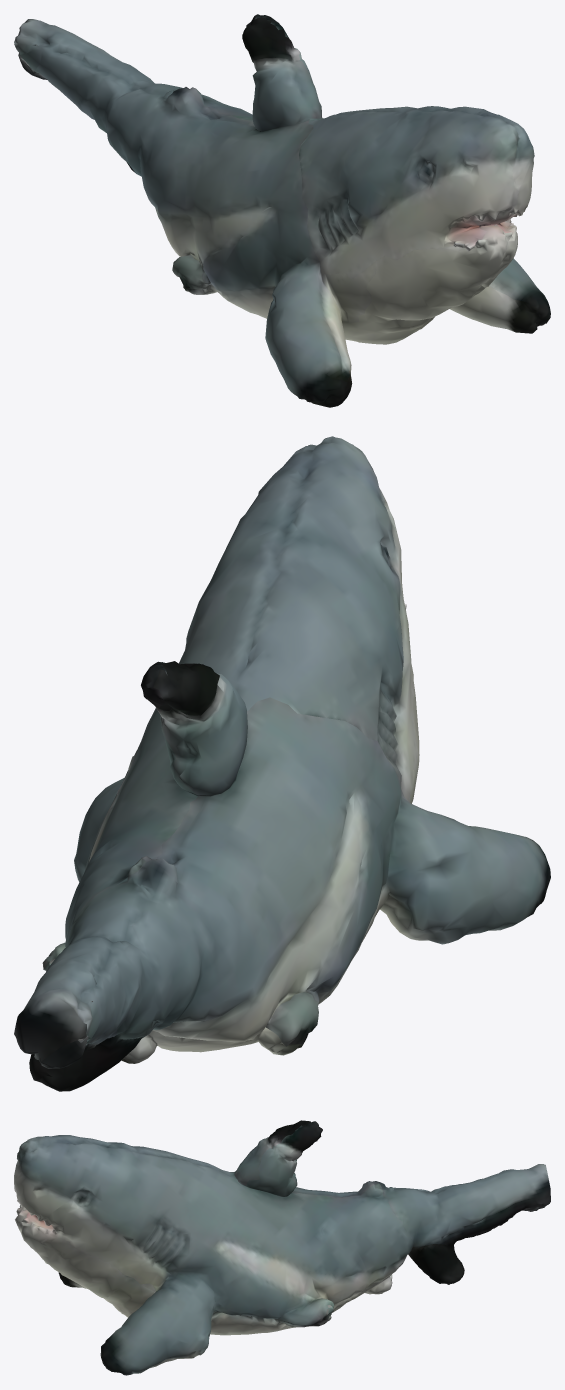
Rendered from Shark-high.glb.
3 renders of one model, top to bottom at view 1: azimuth 30°, elevation 25°; view 2: azimuth 150°, elevation 25°; view 3: azimuth 270°, elevation 25°, orthographic. The views are drawn at different scales.
Visible parts, largest first — view 1: Shark; view 2: Shark; view 3: Shark.
Part boxes in pixels (x1,y1,x2,y2): Shark: (14, 14, 550, 407); Shark: (14, 436, 550, 1091); Shark: (14, 1120, 550, 1375).
Bounding box in the file's own units: 0.1758 × 0.1609 × 0.3868.
Materials: 1 (1 with a texture image).
